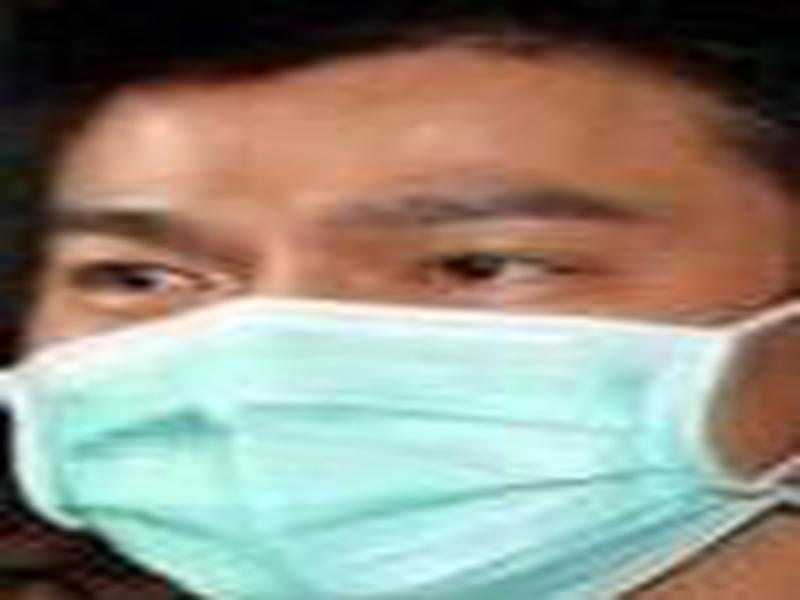with_mask: (1, 2, 796, 600)
